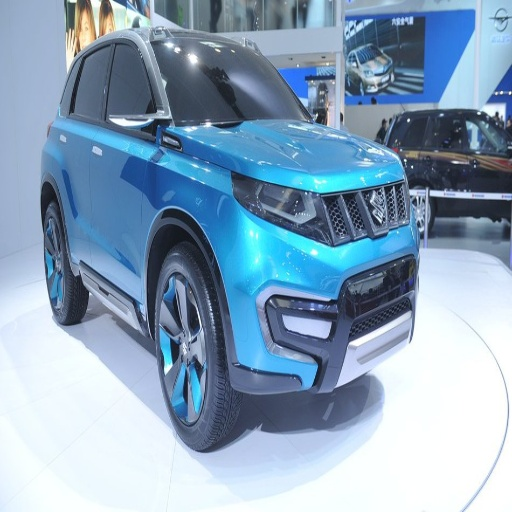front_bumper: (214, 181, 421, 405)
front_right_door: (91, 38, 161, 278)
front_right_light: (232, 176, 342, 242)
